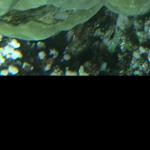dead: (6, 6, 146, 73)
